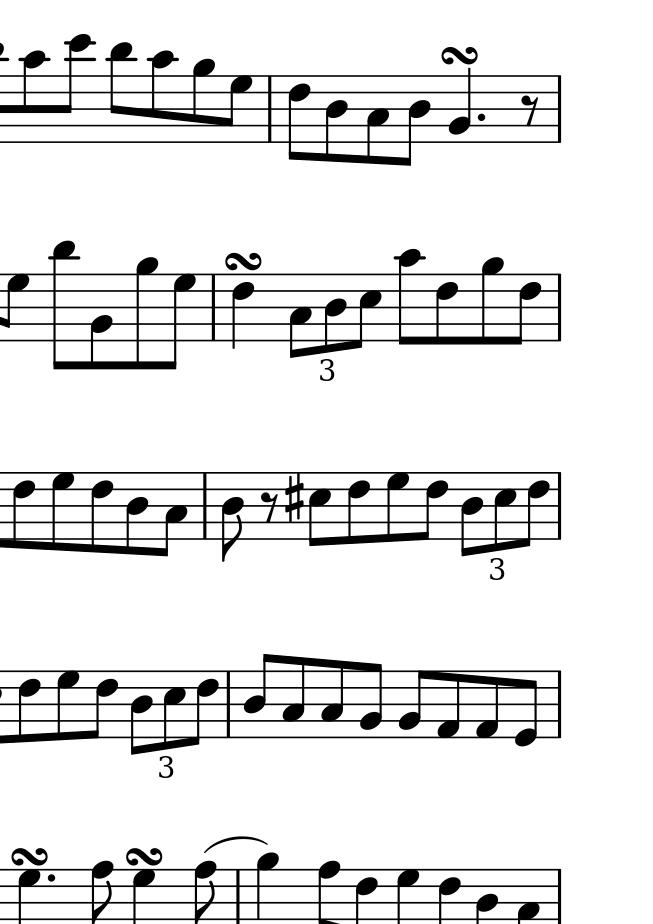3: (157, 755, 174, 780), (488, 557, 505, 582), (318, 358, 335, 382)
4_2: (447, 66, 473, 144)
4_6: (232, 273, 257, 351)
8_0: (515, 669, 540, 747)
8_1: (475, 669, 501, 740), (437, 670, 462, 738)
8_10: (150, 49, 179, 145), (396, 248, 424, 345), (21, 51, 49, 143)
8_11: (50, 240, 79, 371), (107, 42, 138, 143)
8_12: (59, 34, 96, 145)
8_2: (89, 272, 115, 370), (398, 669, 430, 739), (359, 662, 384, 738)
8_3: (157, 470, 191, 558), (364, 73, 391, 164), (324, 73, 350, 163), (287, 272, 313, 359), (281, 656, 307, 740), (320, 659, 346, 738)
8_4: (402, 73, 432, 168), (242, 653, 274, 740), (127, 668, 155, 756), (219, 470, 245, 562), (124, 471, 150, 555), (459, 470, 483, 558), (322, 273, 348, 353)
8_5: (352, 272, 383, 350), (161, 669, 188, 753), (493, 469, 516, 552), (308, 471, 332, 547)
8_6: (190, 669, 221, 746), (286, 74, 312, 164), (87, 669, 119, 740), (513, 272, 543, 347), (417, 471, 449, 541), (88, 472, 114, 553), (525, 469, 551, 548), (17, 668, 43, 745), (432, 271, 459, 345), (346, 470, 372, 546), (10, 471, 35, 549)
8_7: (160, 272, 196, 371), (221, 74, 254, 144), (1, 270, 30, 341), (50, 472, 75, 551), (56, 669, 81, 742), (385, 471, 410, 541)
8_9: (133, 256, 159, 370), (478, 256, 506, 347), (191, 58, 216, 145)
Rests8: (259, 488, 282, 520), (520, 93, 540, 129)
Sharp: (284, 474, 306, 523)
Single_barline: (548, 669, 569, 737), (549, 74, 568, 143), (551, 273, 568, 342), (205, 274, 222, 342), (197, 474, 213, 538), (221, 670, 236, 738), (262, 76, 277, 143), (552, 870, 567, 922)
Slur: (551, 469, 568, 543), (203, 836, 269, 854)
Turn: (121, 846, 167, 868), (224, 248, 262, 273), (441, 43, 478, 68), (10, 846, 52, 868)
dot: (474, 111, 488, 124), (44, 871, 56, 885)
